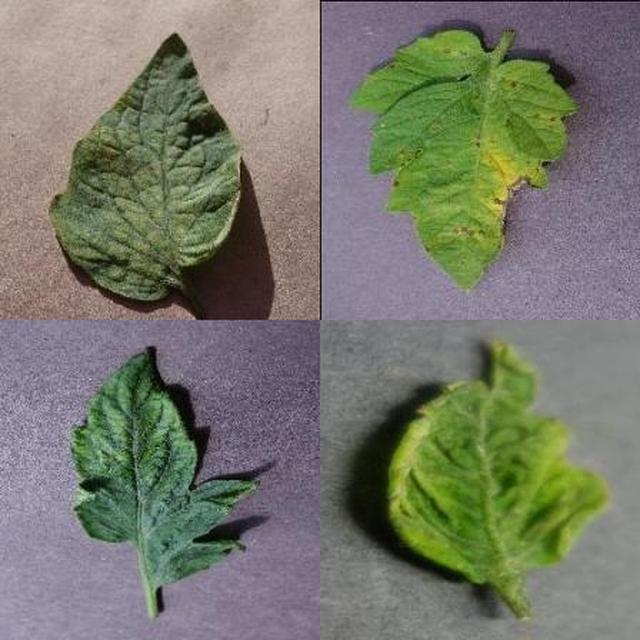Spider Mites Leaf: (209, 227, 640, 640)
